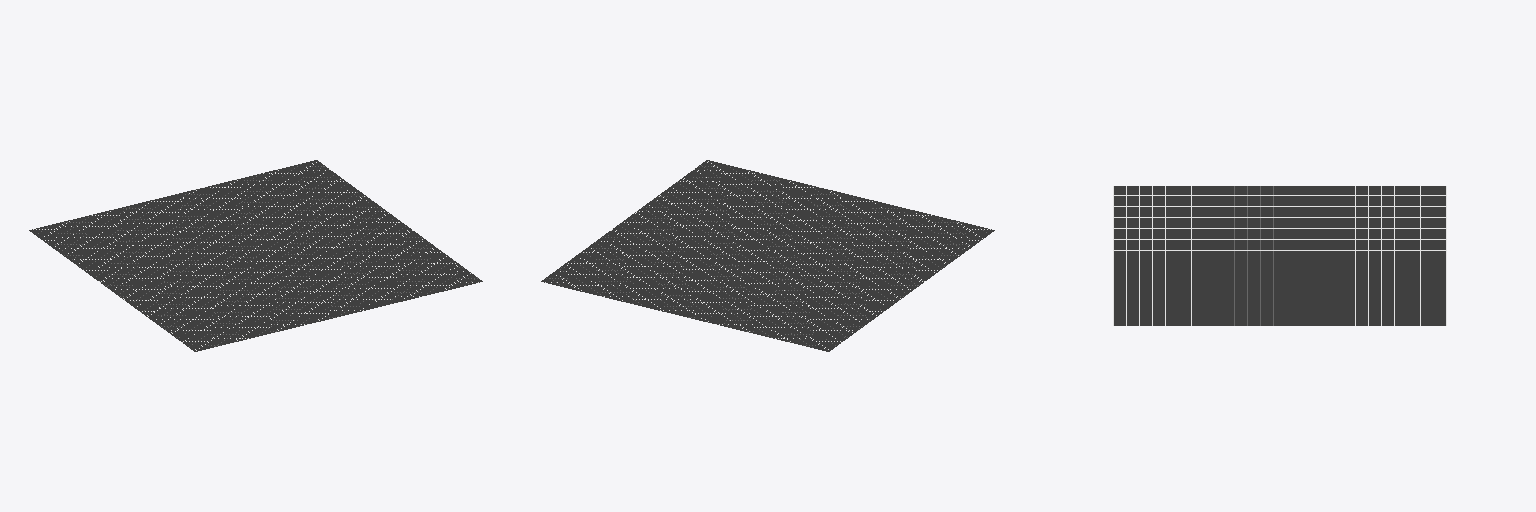
The picture shows the model from 3 angles: view 1: azimuth 30°, elevation 25°; view 2: azimuth 150°, elevation 25°; view 3: azimuth 270°, elevation 25°; orthographic projection.
Visible parts, largest first — view 1: plane; view 2: plane; view 3: plane.
Boxes of the visible parts, box(x1,y1,x2,y2) form: plane: box(29, 160, 482, 351); plane: box(541, 160, 994, 351); plane: box(1113, 186, 1446, 325).
Bounding box in the file's own units: 64 × 0 × 64.
Materials: 1 (1 with a texture image).